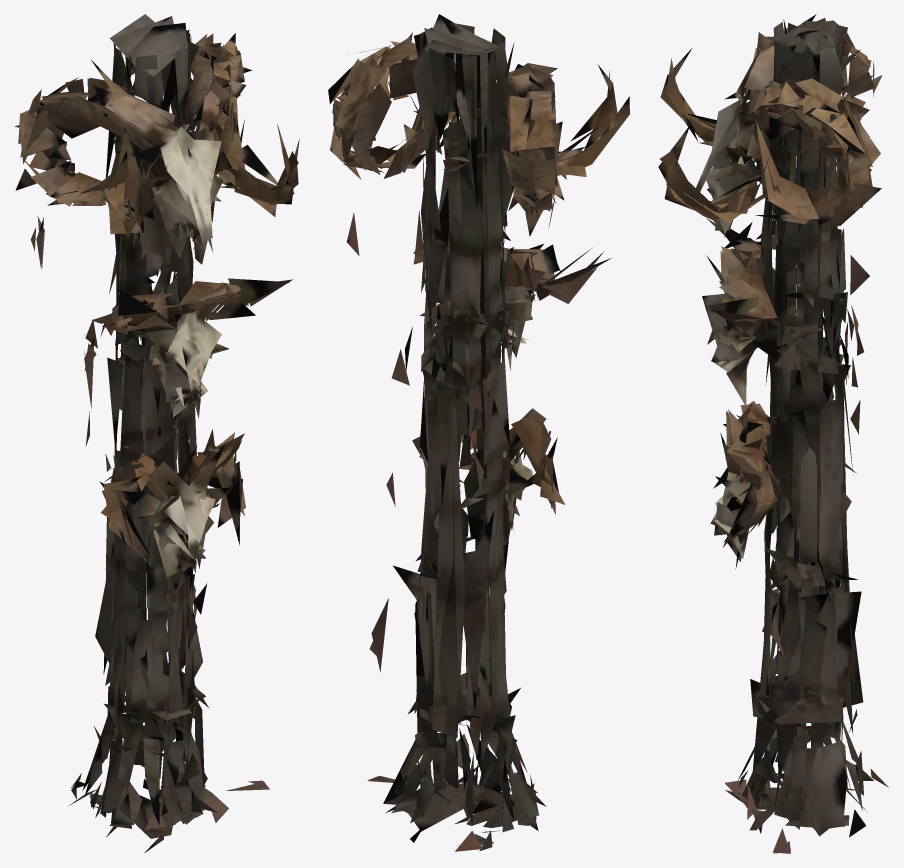
Rendered from goblin_totem_lod.glb.
The picture shows the model from 3 angles, left to right: view 1: azimuth 30°, elevation 25°; view 2: azimuth 150°, elevation 25°; view 3: azimuth 270°, elevation 25°; orthographic projection.
Visible parts, largest first — view 1: goblin_totem; view 2: goblin_totem; view 3: goblin_totem.
Boxes of the visible parts, left/top/right/bottom form: goblin_totem: left=14, top=14, right=299, bottom=852; goblin_totem: left=328, top=14, right=629, bottom=851; goblin_totem: left=658, top=14, right=888, bottom=853.
Bounding box in the file's own units: 1.11 × 3.79 × 0.9911.
Materials: 1 (1 with a texture image).
